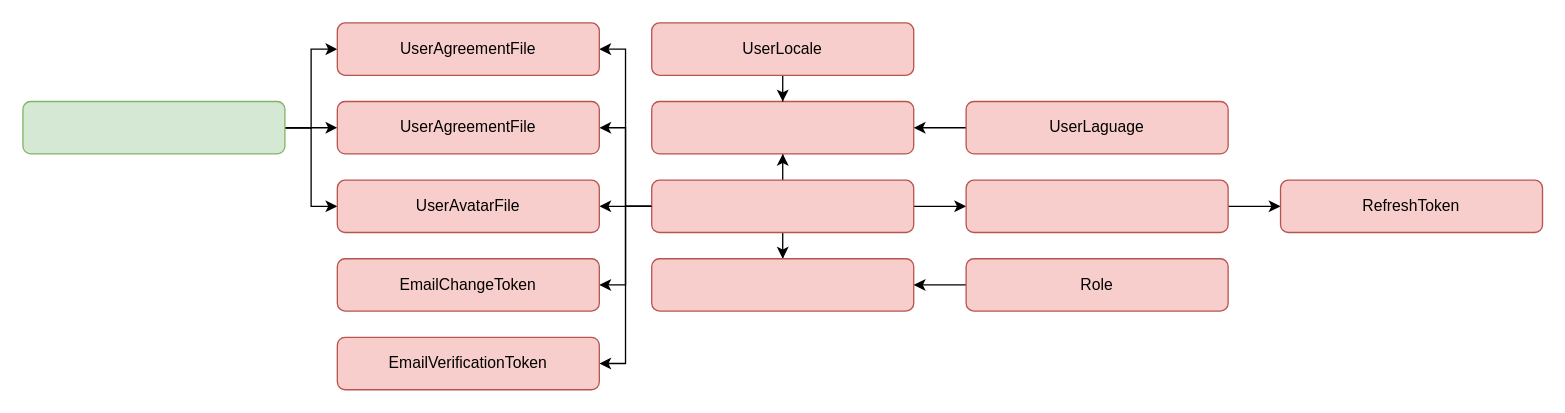
The diagram is 1565 pixels wide and 413 high, and some of its shapes have lost their labels. The box of each missing label's shape, as (x1, y1, x2, y2) in pixels:
File: (22, 100, 285, 154)
User: (650, 179, 914, 233)
UserRole: (650, 257, 914, 311)
UserSession: (965, 179, 1228, 233)
UserSettings: (650, 100, 914, 154)
